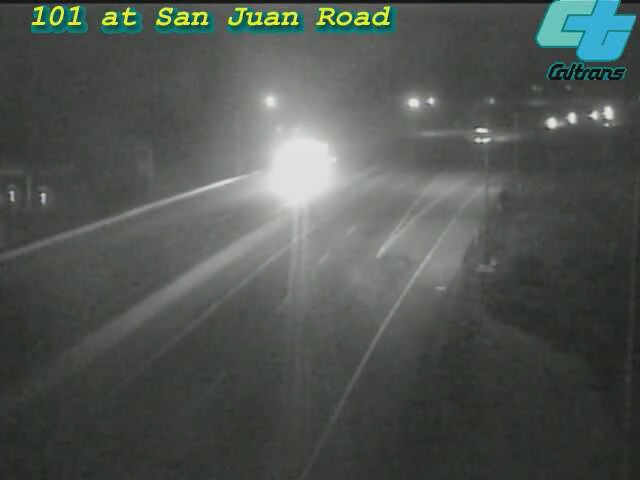vehicle: (257, 127, 337, 207), (529, 99, 579, 149), (459, 109, 509, 159), (548, 92, 598, 142), (581, 87, 631, 137), (568, 90, 618, 140)
